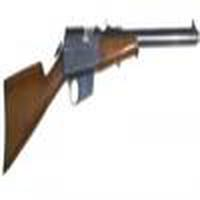gun: (2, 25, 199, 171)
